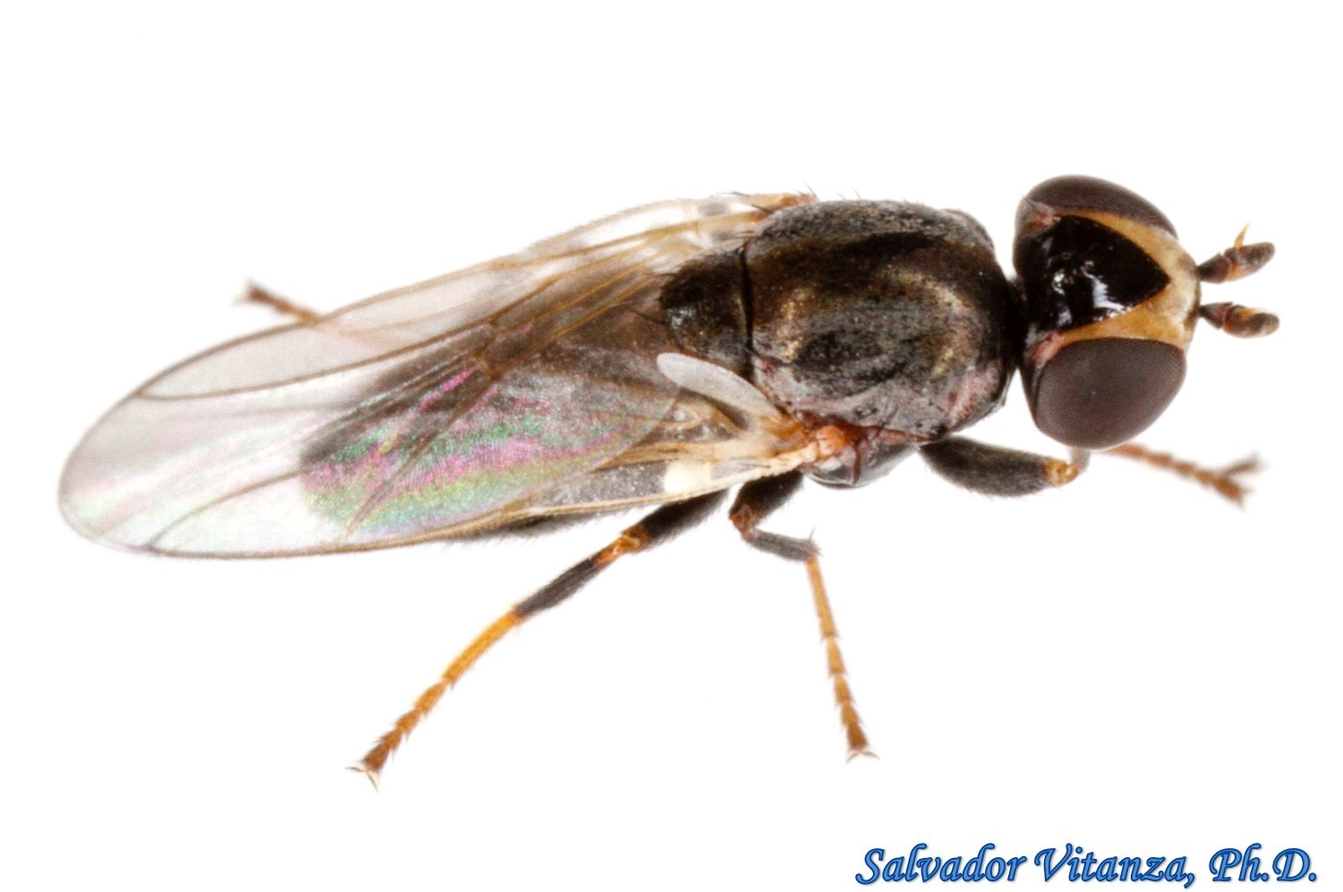Chloropidae: (68, 162, 1295, 787)
